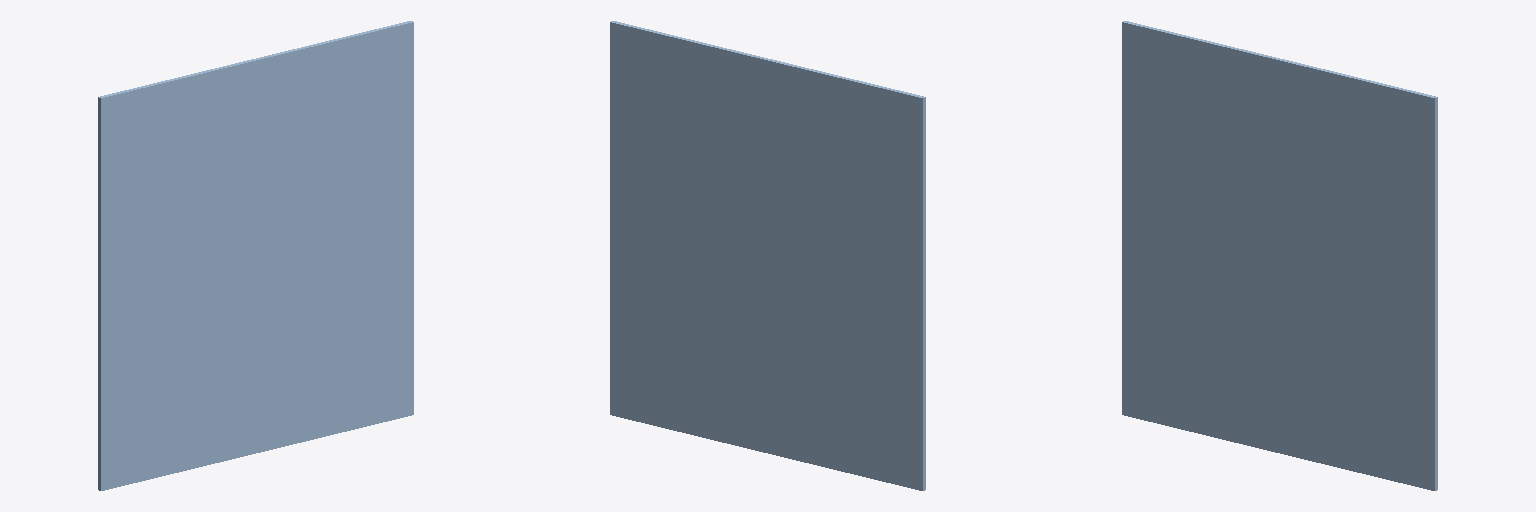
The robot description file, URDF, robot "table.urdf":
<?xml version="1.0" ?>
<robot name="table.urdf">
  <dynamics damping="0.5" friction="0.9"/>
  <link name="baseLink">
    <contact>
      <lateral_friction value="0.9"/>
      <rolling_friction value="0.5"/>
      <stiffness value="30000"/>
      <damping value="1000"/>
    </contact>
    <visual>
      <origin rpy="0 0 0" xyz="0 0 0"/>
      <geometry>
        <mesh filename="table/table.obj" scale="1.0 1.0 1.0"/>
      </geometry>
       <material name="mat">
        <color rgba="0.7 0.8 0.9 1"/>
      </material>
    </visual>
    <collision>
      <origin rpy="0 0 0" xyz="0 0 0"/>
      <geometry>
	 	<mesh filename="table/table.obj" scale="1.0 1.0 1.0"/>
      </geometry>
    </collision>
  </link>
</robot>

--- What the picture shows (computed from the rendered views, not written in the file) ---
3 views of the same robot in one strip: view 1: azimuth 30°, elevation 25°; view 2: azimuth 150°, elevation 25°; view 3: azimuth 330°, elevation 25° (orthographic).
Model table.urdf with 1 links and 0 joints (none), rooted at baseLink, posed every joint at zero.
Visible links, largest first — view 1: baseLink; view 2: baseLink; view 3: baseLink.
Boxes of the visible links, x1,y1,x2,y2 form: baseLink: (98,21,413,490); baseLink: (610,21,925,490); baseLink: (1122,21,1437,490).
Size in the robot's own frame: 0.45 by 0.0055 by 0.54 metres.
1 mesh visuals loaded from 1 distinct referenced files (1 OBJ).
